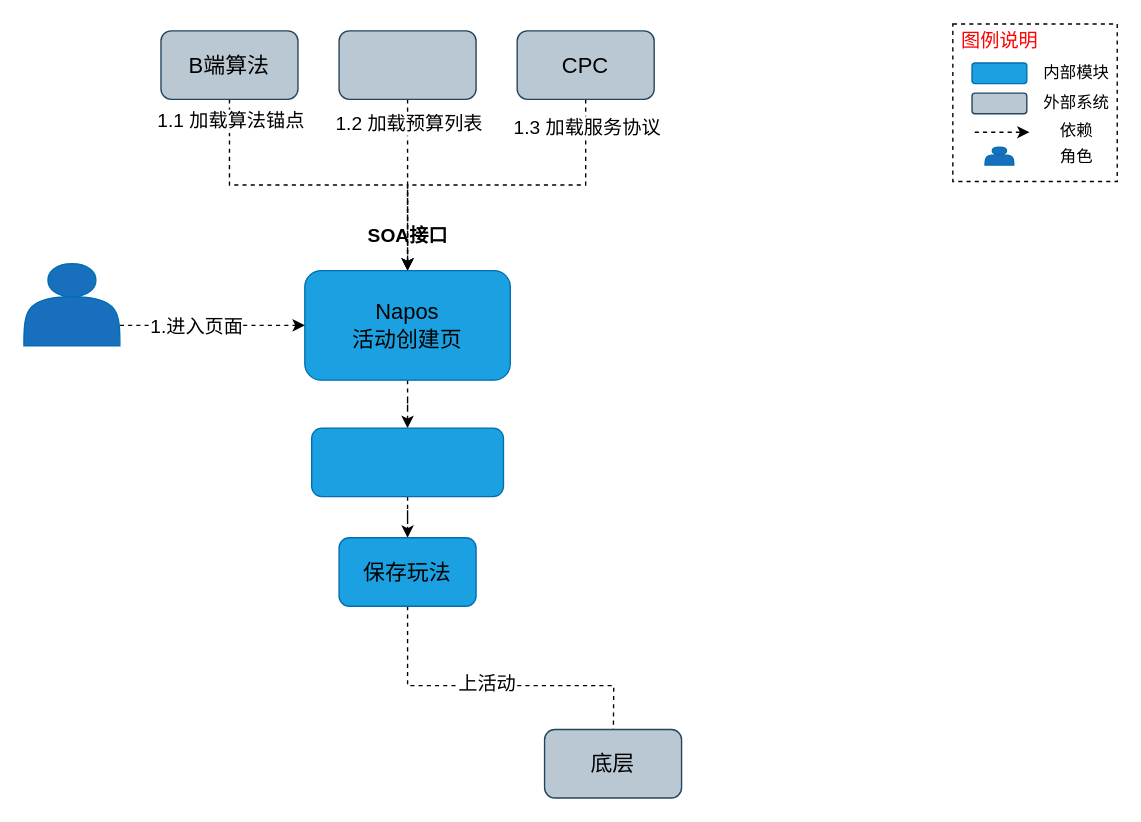
Some shapes in this 1141 by 822 pixel diagram are drawn without their labels. Here are the shapes that lost their labels. From the top down, the box of each, then its label:
(338, 29, 476, 99): 预算池
(23, 262, 120, 346): 商户
(310, 427, 503, 497): 玩法 play.doraemon
